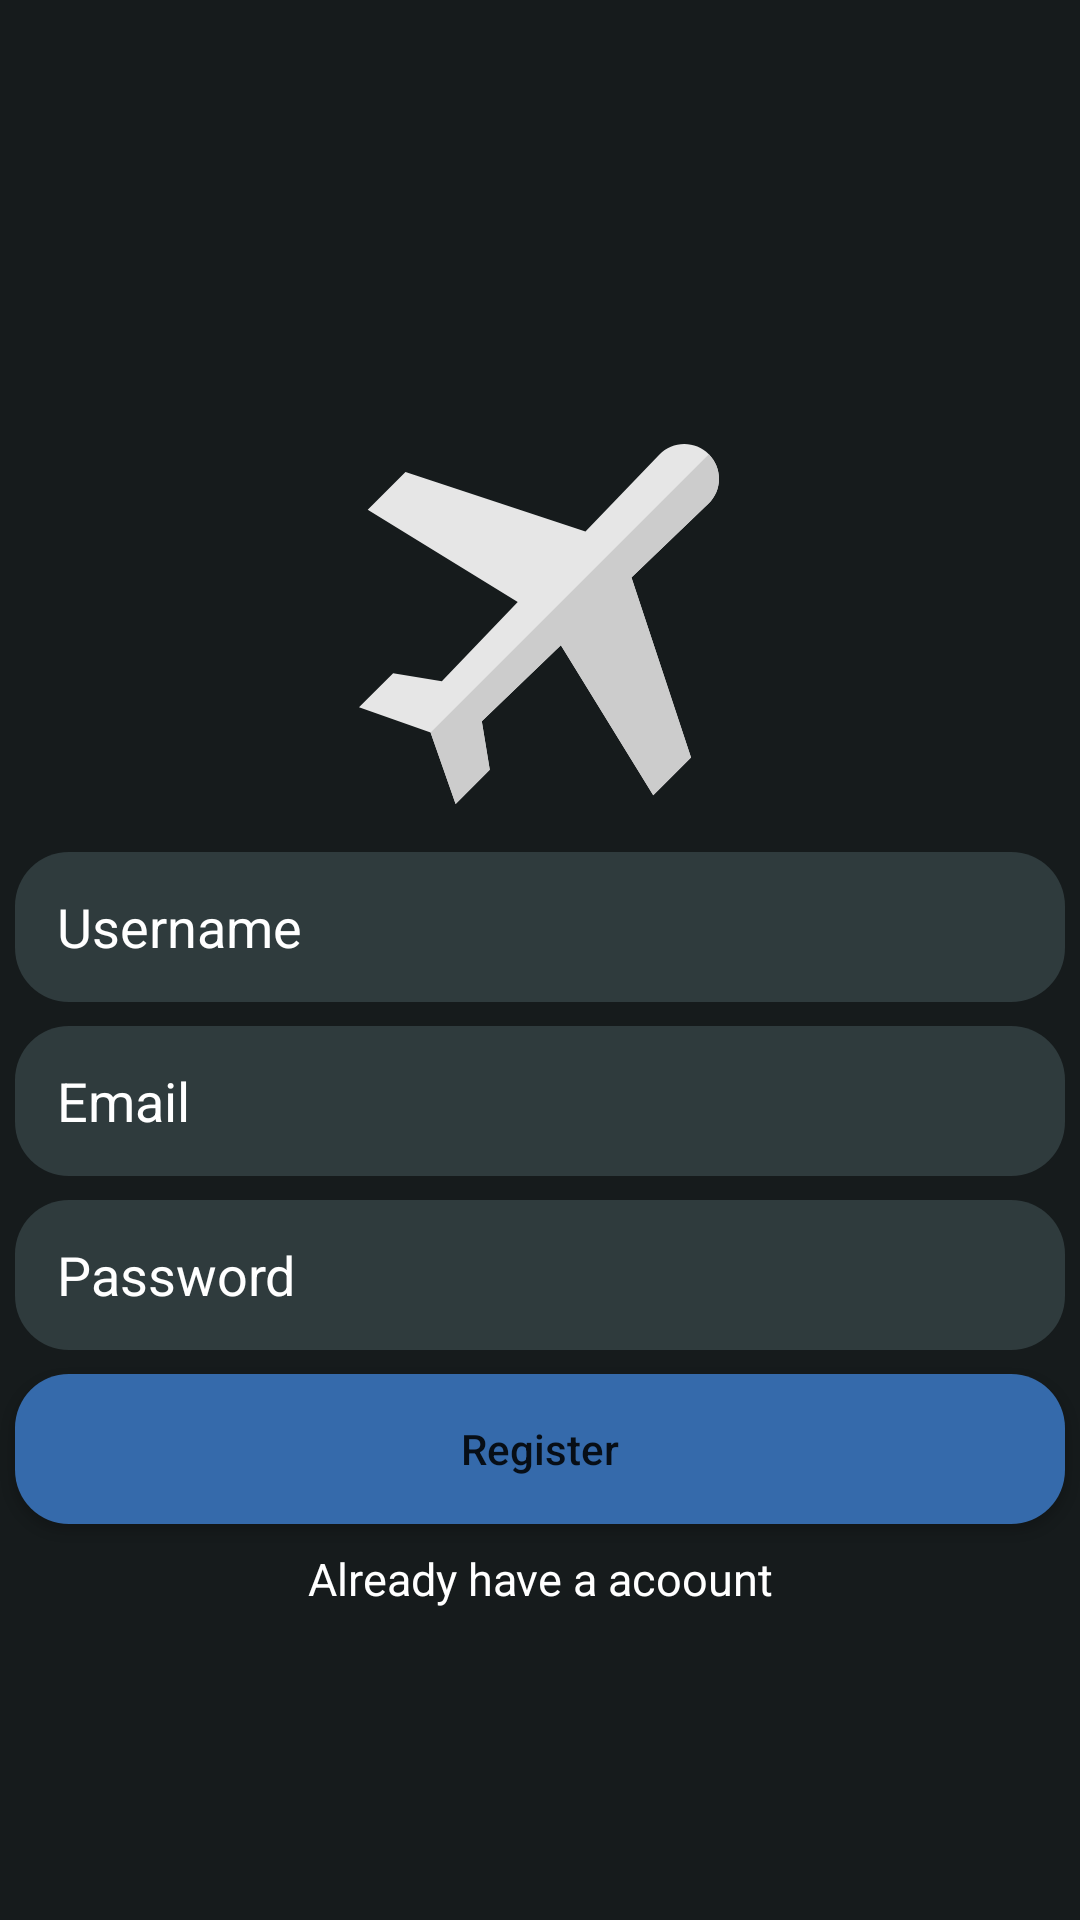

Named icons in this screenshot (1080 x 1920) and their centers, point (x, y):
plane: point (539, 624)
